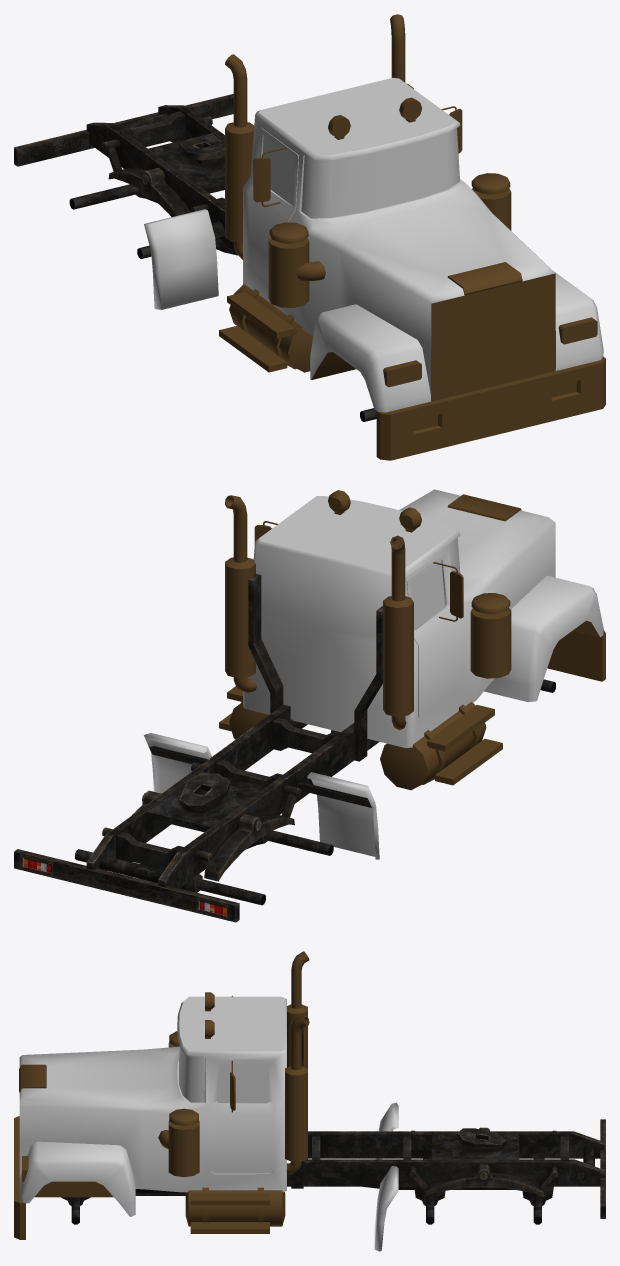
The model's file is truck_rig.FBX.
3 views of the same model, one above another, from view 1: azimuth 30°, elevation 25°; view 2: azimuth 150°, elevation 25°; view 3: azimuth 270°, elevation 25° (orthographic). The views are drawn at different scales.
Parts seen in each view (by area): view 1: Object002, mudflaps, glass2, door2, headlights01, DoorR; view 2: Object002, mudflaps, door2, glass2, DoorR; view 3: mudflaps, Object002, door1, glass2.
Part boxes in pixels (x1,y1,x2,y2): Object002: (14,14,605,460); mudflaps: (144,78,603,412); glass2: (262,128,459,218); door2: (248,127,298,281); headlights01: (331,100,597,387); DoorR: (253,147,286,206); Object002: (14,490,605,922); mudflaps: (144,489,603,859); door2: (407,552,458,718); glass2: (411,538,460,628); DoorR: (433,562,463,621); mudflaps: (19,996,398,1251); Object002: (14,951,605,1239); door1: (211,1060,273,1173); glass2: (179,1045,205,1102).
Bounding box in the file's own units: 199 × 226 × 539.
